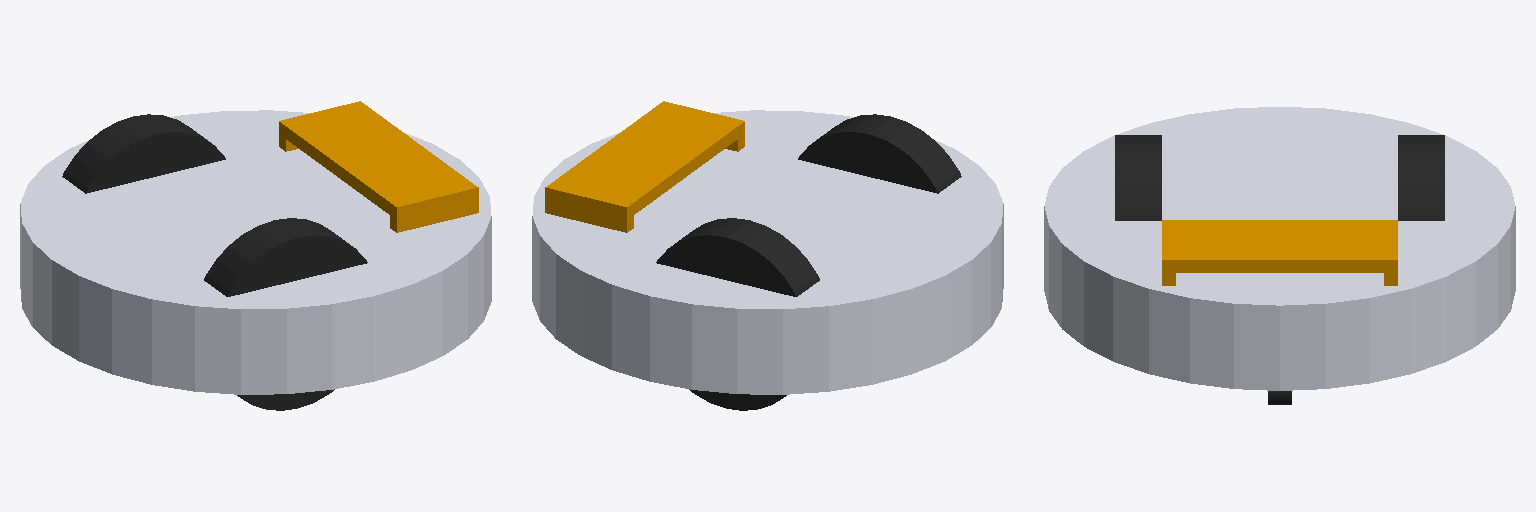
The robot description file, URDF, robot "miniBox":
<?xml version='1.0'?>
<robot name="miniBox">

    <!-- Base Link -->
    <link name="base_link">
        <visual>
        <origin xyz="0 0 0" rpy="0 0 0" />
        <geometry>
            <cylinder length="0.2" radius="0.5" />
        </geometry>
        <material name="white">
            <color rgba="0.90 0.91 0.95 1"/>
        </material>
        </visual>
        <!-- Base collision, mass and inertia -->
        <collision>
            <origin xyz="0 0 0" rpy="0 0 0" />
            <geometry>
                <cylinder length="0.2" radius="0.5" />
            </geometry>
        </collision>
            <inertial>
            <mass value="5"/>
            <inertia ixx="0.13" ixy="0.0" ixz="0.0" iyy="0.21" iyz="0.0" izz="0.13"/>
        </inertial>

        <!-- top -->
        <visual name="top">
        <origin xyz="0.3 0 0.145" rpy="0 0 0" />
        <geometry>
            <box size="0.2 0.5 0.03"/>
        </geometry>
        </visual>
        <collision>
            <origin xyz="0.3 0 0.145" rpy="0 0 0" />
            <geometry>
                <box size="0.2 0.5 0.03"/>
            </geometry>
        </collision>
            <inertial>
            <mass value="1"/>
            <inertia ixx="0.0001" ixy="0.0" ixz="0.0" iyy="0.0001" iyz="0.0" izz="0.0001"/>
        </inertial>

        <visual name="top_left">
        <origin xyz="0.3 0.235 0.115" rpy="0 0 0" />
        <geometry>
            <box size="0.2 0.03 0.03"/>
        </geometry>
        </visual>
        <collision>
            <origin xyz="0.3 0.235 0.115" rpy="0 0 0" />
            <geometry>
                <box size="0.2 0.03 0.03"/>
            </geometry>
        </collision>

        <visual name="top_right">
        <origin xyz="0.3 -0.235 0.115" rpy="0 0 0" />
        <geometry>
            <box size="0.2 0.03 0.03"/>
        </geometry>
        </visual>
        <collision>
            <origin xyz="0.3 -0.235 0.115" rpy="0 0 0" />
            <geometry>
                <box size="0.2 0.03 0.03"/>
            </geometry>
        </collision>

    </link>

    <link name="front_follow_wheel_pillar">
        <!-- front follow wheel pillar -->
        <visual>
        <geometry>
            <cylinder radius="0.075" length="0.03"/>
        </geometry>
        <material name="white"/>
        </visual>
        <collision>
        <geometry>
            <cylinder radius="0.075" length="0.03"/>
        </geometry>
        </collision>
        <inertial>
        <mass value="0.2"/>
        <inertia ixx="0.0001" ixy="0.0" ixz="0.0" iyy="0.0001" iyz="0.0" izz="0.0001"/>
        </inertial>
    </link>

    <!-- joint of base and front follow wheel pillar -->
    <joint name="base_to_front_follow_wheel_pillar" type="continuous">
        <parent link="base_link"/>
        <child link="front_follow_wheel_pillar"/>
        <axis xyz="0 0 1"/>
        <origin xyz="0.35 0 -0.115" rpy="0 0 0" />
    </joint>

    <!-- front follow wheel -->
    <link name="front_follow_wheel">
        <visual>
        <geometry>
            <cylinder radius="0.035" length="0.05"/>
        </geometry>
        <material name="darkgray">
            <color rgba="0.2 0.2 0.2 1"/>
        </material>
        </visual>
        <collision>
        <geometry>
            <cylinder radius="0.035" length="0.05"/>
        </geometry>
        </collision>
        <inertial>
        <mass value="0.3"/>
        <inertia ixx="0.0001" ixy="0.0" ixz="0.0" iyy="0.0001" iyz="0.0" izz="0.0001"/>
        </inertial>
    </link>

    <!-- joint of front pillar and front follow wheel -->
    <joint name="front_pillar_to_front_follow_wheel" type="continuous">
        <parent link="front_follow_wheel_pillar"/>
        <child link="front_follow_wheel"/>
        <axis xyz="0 0 1"/>
        <origin xyz="0 0 -0.05" rpy="1.57075 0 0" />
    </joint>

    <!-- Right Wheel -->
    <link name="right_wheel">
        <visual>
        <origin xyz="0 0 0" rpy="1.570795 0 0" />
        <geometry>
            <cylinder length="0.1" radius="0.2" />
        </geometry>
        <material name="darkgray">
            <color rgba="0.2 0.2 0.2 1"/>
        </material>
        </visual>
        <!-- Right Wheel collision, mass and inertia -->
        <collision>
            <origin xyz="0 0 0" rpy="1.570795 0 0" />
            <geometry>
                <cylinder length="0.1" radius="0.2" />
            </geometry>
        </collision>
        <inertial>
            <mass value="0.5"/>
            <inertia ixx="0.01" ixy="0.0" ixz="0.0" iyy="0.005" iyz="0.0" izz="0.005"/>
        </inertial>

    </link>

    <!-- Right Wheel joint -->
    <joint name="joint_right_wheel" type="continuous">
        <parent link="base_link"/>
        <child link="right_wheel"/>
        <origin xyz="-0.1 -0.30 0" rpy="0 0 0" />
        <axis xyz="0 1 0" />
    </joint>

    <!-- Left Wheel -->
    <link name="left_wheel">
        <visual>
        <origin xyz="0 0 0" rpy="1.570795 0 0" />
        <geometry>
            <cylinder length="0.1" radius="0.2" />
        </geometry>
        <material name="darkgray">
            <color rgba="0.2 0.2 0.2 1"/>
        </material>
        </visual>
        <!-- Left Wheel collision, mass and inertia -->
        <collision>
            <origin xyz="0 0 0" rpy="1.570795 0 0" />
            <geometry>
                <cylinder length="0.1" radius="0.2" />
            </geometry>
        </collision>
        <inertial>
            <mass value="0.5"/>
            <inertia ixx="0.01" ixy="0.0" ixz="0.0" iyy="0.005" iyz="0.0" izz="0.005"/>
        </inertial>
    </link>

    <!-- Left Wheel joint -->
    <joint name="joint_left_wheel" type="continuous">
        <parent link="base_link"/>
        <child link="left_wheel"/>
        <origin xyz="-0.1 0.30 0" rpy="0 0 0" />
        <axis xyz="0 1 0" />
    </joint>
</robot>

--- What the picture shows (computed from the rendered views, not written in the file) ---
3 views of the same robot in one strip: view 1: azimuth 30°, elevation 25°; view 2: azimuth 150°, elevation 25°; view 3: azimuth 270°, elevation 25° (orthographic).
Model miniBox with 5 links and 4 joints (4 continuous), rooted at base_link, posed all joints at 0.
Links seen in each view (by area): view 1: base_link, right_wheel, left_wheel; view 2: base_link, left_wheel, right_wheel; view 3: base_link, right_wheel, left_wheel.
Link boxes in pixels (x1,y1,x2,y2): base_link: [20, 101, 491, 394]; right_wheel: [204, 218, 367, 410]; left_wheel: [62, 114, 225, 193]; base_link: [532, 101, 1003, 394]; left_wheel: [656, 218, 819, 410]; right_wheel: [798, 114, 961, 193]; base_link: [1044, 107, 1515, 390]; right_wheel: [1115, 135, 1161, 220]; left_wheel: [1398, 135, 1444, 220].
Size in the robot's own frame: 1 by 1 by 0.4 metres.
Geometry: primitives only (box / cylinder / sphere), no mesh files.